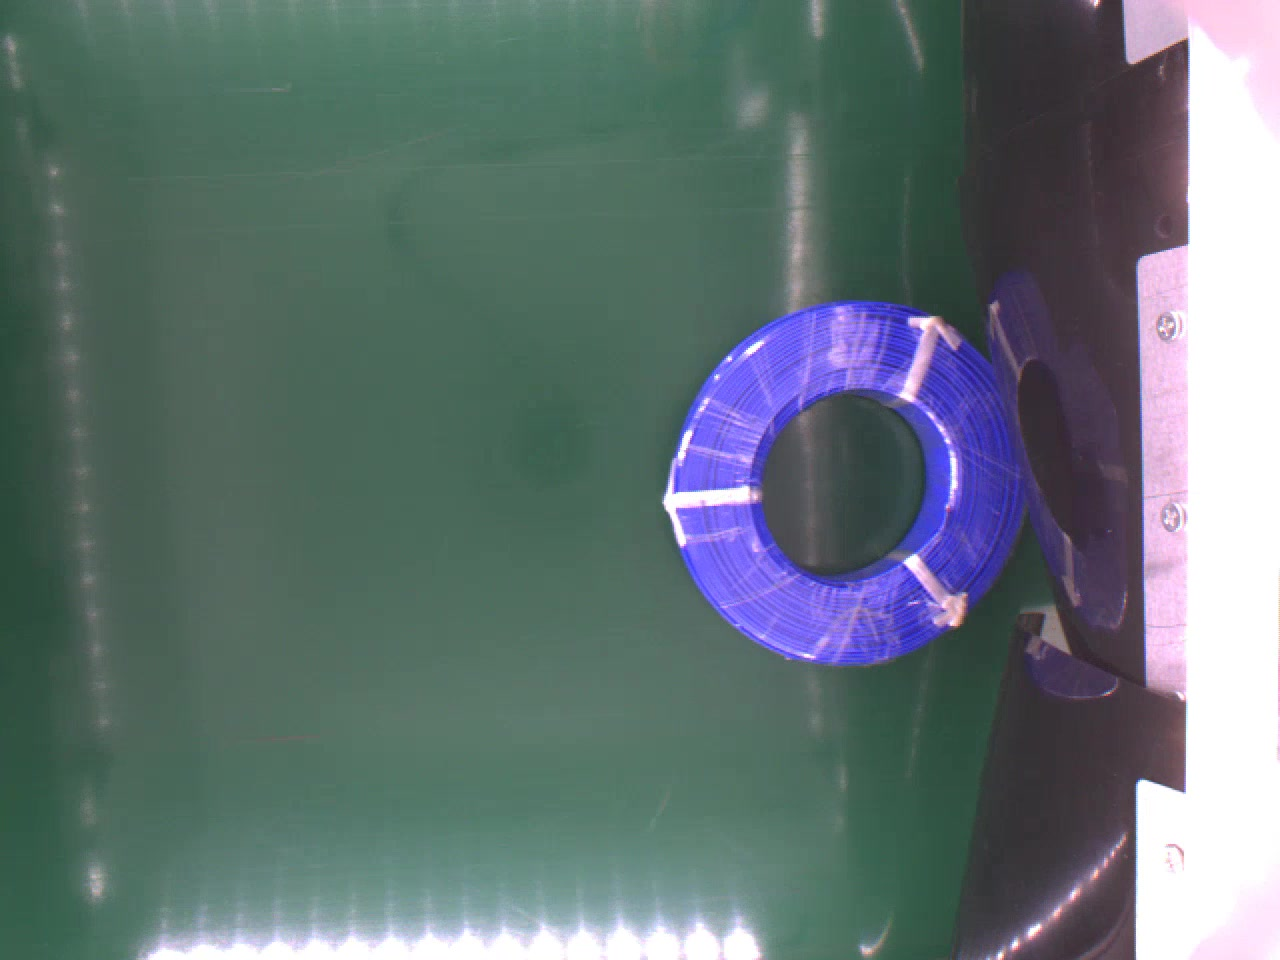blue: (664, 301, 1029, 667)
